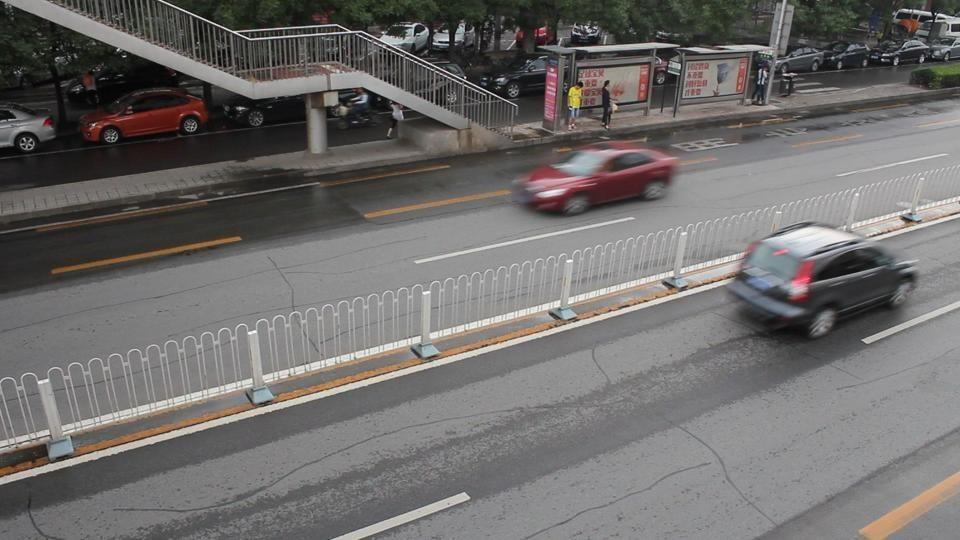car: (727, 222, 918, 340), (510, 148, 679, 216), (78, 88, 209, 147), (478, 56, 556, 99), (0, 104, 58, 154), (380, 22, 430, 53), (876, 41, 933, 67), (819, 44, 871, 70), (777, 47, 826, 74), (925, 42, 960, 63)
